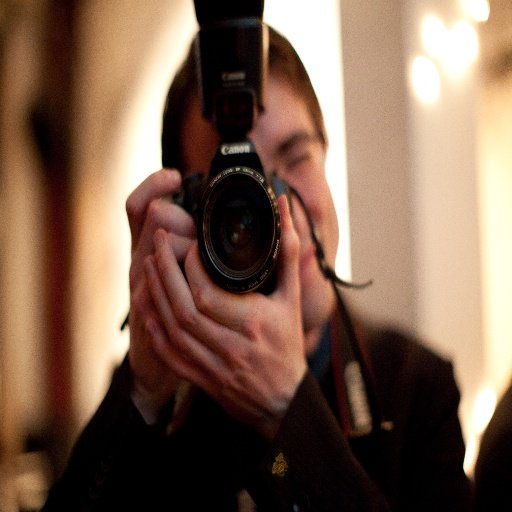hand: (116, 246, 337, 441), (122, 167, 200, 395)
